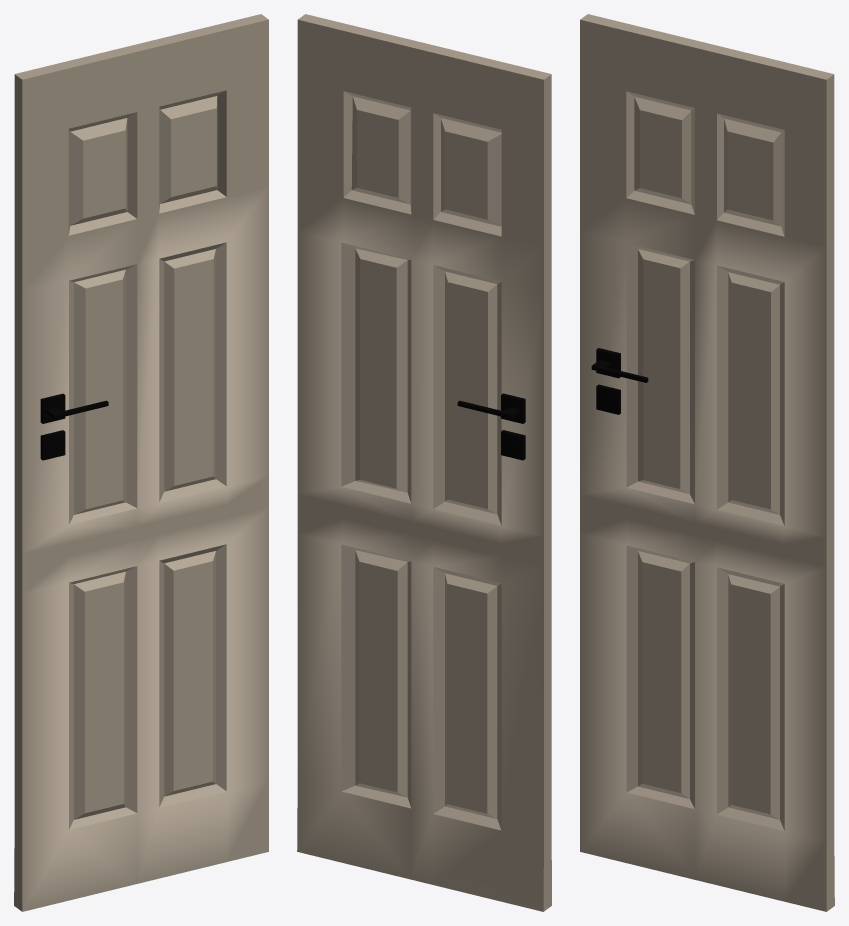
File: SC_4_full2_door.glb
3 views of the same model, side by side, from view 1: azimuth 30°, elevation 25°; view 2: azimuth 150°, elevation 25°; view 3: azimuth 330°, elevation 25° (orthographic).
Parts seen in each view (by area): view 1: SC_4__2_door_; view 2: SC_4__2_door_; view 3: SC_4__2_door_.
Part boxes in pixels (x1,y1,x2,y2): SC_4__2_door_: (14,14,268,911); SC_4__2_door_: (297,14,551,911); SC_4__2_door_: (580,14,834,911).
Size of the model in its own units: 0.5514 by 1.78 by 0.1089.
Materials: 1 (1 with a texture image).
